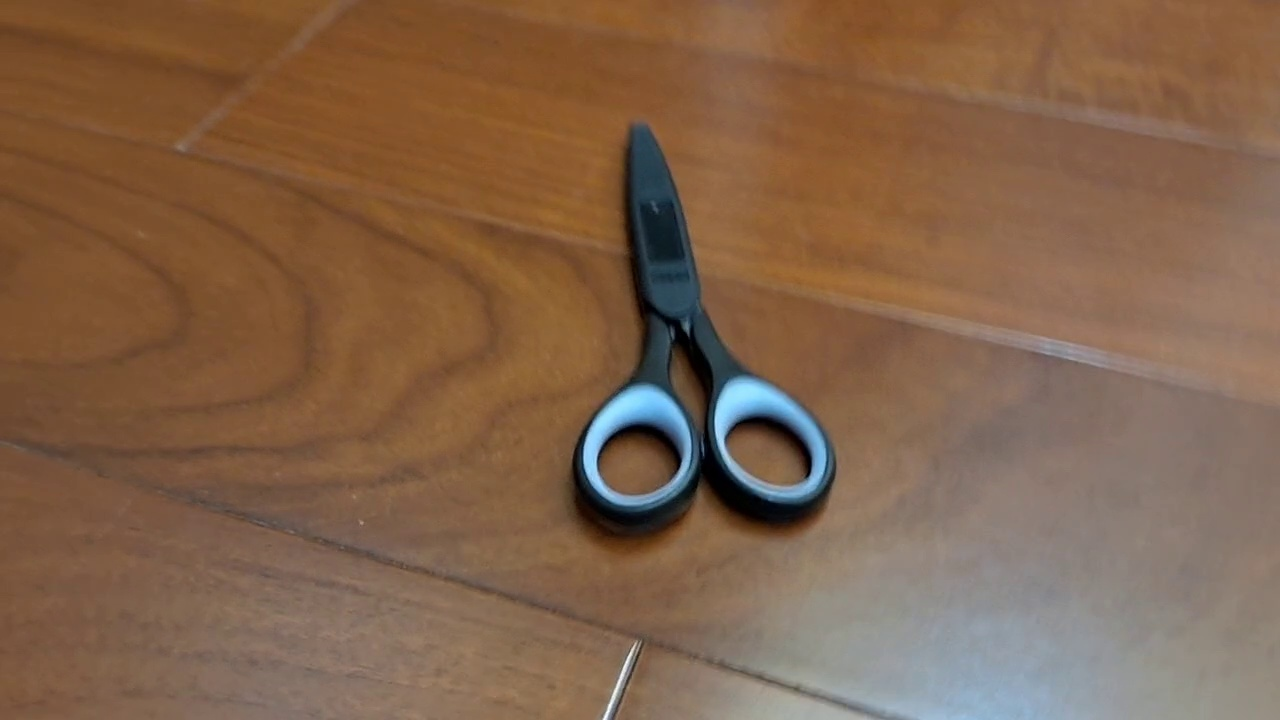scissors: (570, 119, 839, 538)
